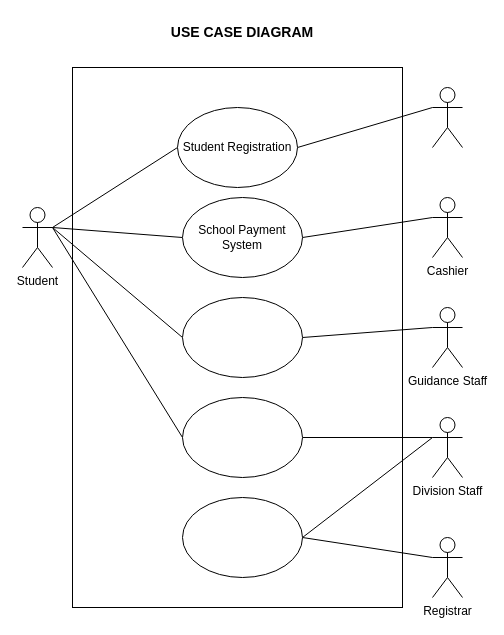
The diagram is 504 pixels wide and 635 high, and some of its shapes have lost their labels. Each missing label, with the centre of its shape:
DSSC Staff: point 447,117
Loading of Subjects: point 242,437
Student Evaluation/Monitoring: point 242,337
Student Validation: point 242,537
